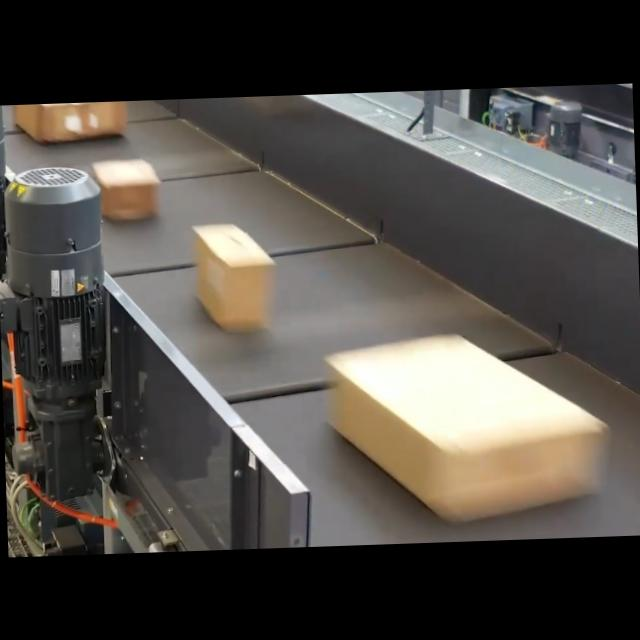box: (324, 333, 604, 529), (191, 218, 274, 332), (12, 100, 128, 144), (96, 159, 158, 220)
